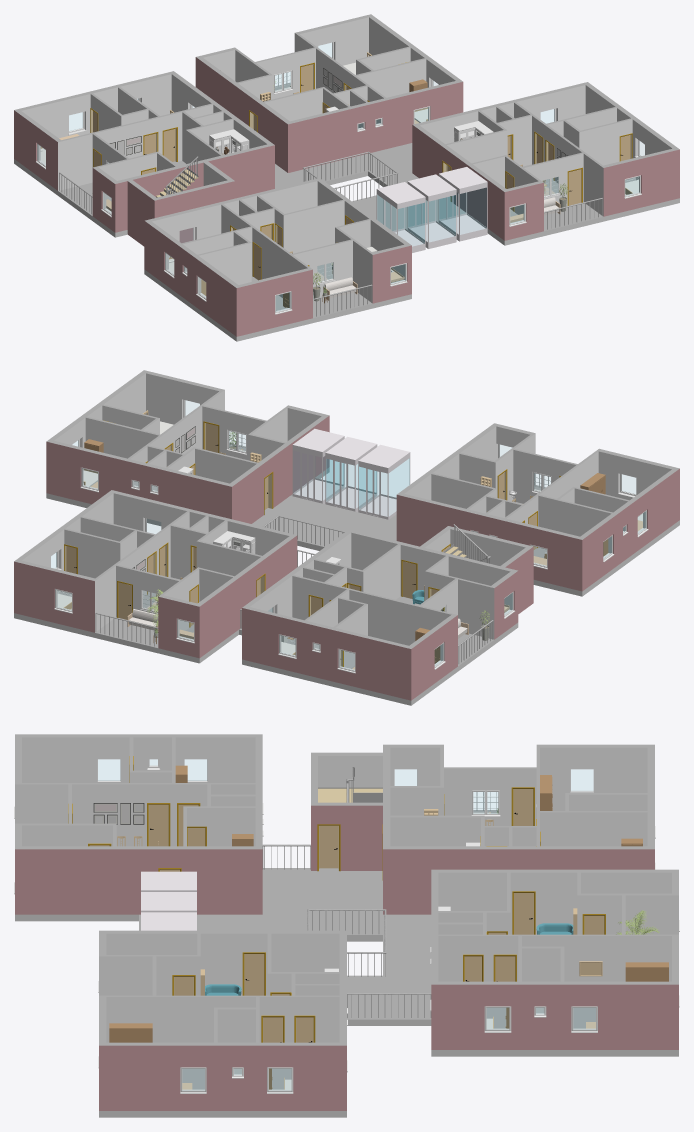
The model's file is top_floor.glb.
3 renders of one model, top to bottom at view 1: azimuth 30°, elevation 25°; view 2: azimuth 150°, elevation 25°; view 3: azimuth 270°, elevation 25°, orthographic. The views are drawn at different scales.
Visible parts, largest first — view 1: [565309]Floor, [565241]ExWall, [565100]ExWall, [565171]ExWall, [565101]ExWall, [565032]ExWall, [565169]ExWall, [565180]IntWall, [565033]ExWall, [565240]ExWall, [565103]ExWall, [565034]ExWall (+49 smaller); view 2: [565309]Floor, [565169]ExWall, [565034]ExWall, [565103]ExWall, [565100]ExWall, [565239]ExWall, [565033]ExWall, [565240]ExWall, [565180]IntWall, [565171]ExWall, [565241]ExWall, [565481]NO Lift (+46 smaller); view 3: [565309]Floor, [565031]ExWall, [565238]ExWall, [565102]ExWall, [565100]ExWall, [565240]ExWall, [565033]ExWall, [565172]ExWall, [565042]IntWall, [565249]IntWall, [565111]IntWall, [565170]ExWall (+43 smaller).
Boxes of the visible parts, x1=… form: [565309]Floor: x1=14, y1=82, x2=679, y2=341; [565241]ExWall: x1=290, y1=81, x2=458, y2=171; [565100]ExWall: x1=144, y1=219, x2=238, y2=334; [565171]ExWall: x1=117, y1=143, x2=274, y2=231; [565101]ExWall: x1=234, y1=267, x2=312, y2=336; [565032]ExWall: x1=601, y1=147, x2=679, y2=216; [565169]ExWall: x1=19, y1=71, x2=175, y2=138; [565180]IntWall: x1=61, y1=103, x2=213, y2=189; [565033]ExWall: x1=412, y1=123, x2=506, y2=238; [565240]ExWall: x1=198, y1=58, x2=292, y2=172; [565103]ExWall: x1=149, y1=179, x2=317, y2=257; [565034]ExWall: x1=417, y1=83, x2=585, y2=143; [565309]Floor: x1=14, y1=442, x2=679, y2=705; [565169]ExWall: x1=242, y1=606, x2=408, y2=699; [565034]ExWall: x1=51, y1=441, x2=229, y2=517; [565103]ExWall: x1=401, y1=494, x2=579, y2=589; [565100]ExWall: x1=577, y1=469, x2=676, y2=591; [565239]ExWall: x1=14, y1=559, x2=97, y2=632; [565033]ExWall: x1=227, y1=416, x2=326, y2=523; [565240]ExWall: x1=198, y1=534, x2=297, y2=655; [565180]IntWall: x1=292, y1=575, x2=452, y2=645; [565171]ExWall: x1=346, y1=529, x2=512, y2=612; [565241]ExWall: x1=113, y1=491, x2=291, y2=555; [565481]NO Lift: x1=358, y1=444, x2=410, y2=519; [565309]Floor: x1=15, y1=810, x2=678, y2=1117; [565031]ExWall: x1=106, y1=1042, x2=346, y2=1110; [565238]ExWall: x1=431, y1=981, x2=671, y2=1049; [565102]ExWall: x1=22, y1=846, x2=262, y2=914; [565100]ExWall: x1=22, y1=734, x2=262, y2=782; [565240]ExWall: x1=431, y1=869, x2=671, y2=934; [565033]ExWall: x1=106, y1=930, x2=346, y2=995; [565172]ExWall: x1=390, y1=846, x2=647, y2=914; [565042]IntWall: x1=106, y1=995, x2=339, y2=1042; [565249]IntWall: x1=438, y1=934, x2=671, y2=981; [565111]IntWall: x1=22, y1=783, x2=255, y2=846; [565170]ExWall: x1=536, y1=744, x2=654, y2=810.
Bounding box in the file's own units: 30.68 × 4.44 × 27.68.
